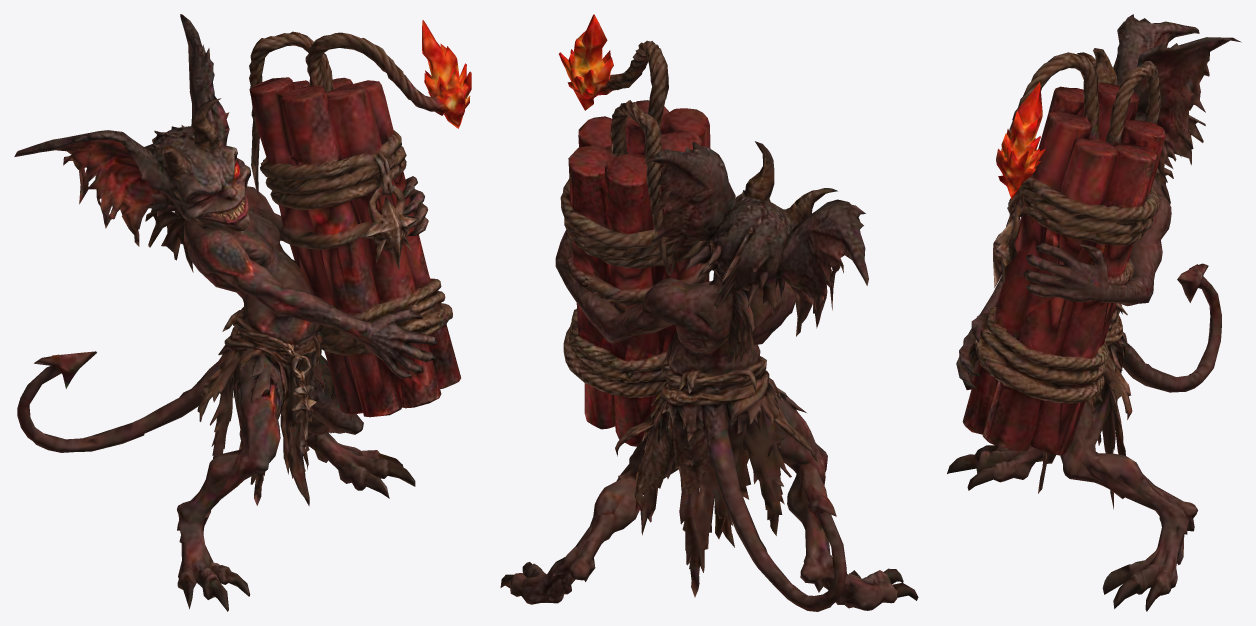
The model's file is fire_imp.glb.
3 views of the same model, side by side, from view 1: azimuth 30°, elevation 25°; view 2: azimuth 150°, elevation 25°; view 3: azimuth 270°, elevation 25° (orthographic). The views are drawn at different scales.
Visible parts, largest first — view 1: tripo_node_1eab98ce-7439-4fb3-a05d-95c476a6eb42; view 2: tripo_node_1eab98ce-7439-4fb3-a05d-95c476a6eb42; view 3: tripo_node_1eab98ce-7439-4fb3-a05d-95c476a6eb42.
Boxes of the visible parts, x1=… form: tripo_node_1eab98ce-7439-4fb3-a05d-95c476a6eb42: x1=14, y1=14, x2=471, y2=611; tripo_node_1eab98ce-7439-4fb3-a05d-95c476a6eb42: x1=500, y1=14, x2=918, y2=611; tripo_node_1eab98ce-7439-4fb3-a05d-95c476a6eb42: x1=947, y1=14, x2=1241, y2=611.
Bounding box in the file's own units: 0.7532 × 0.9799 × 0.5095.
1 material, 1 textured.
